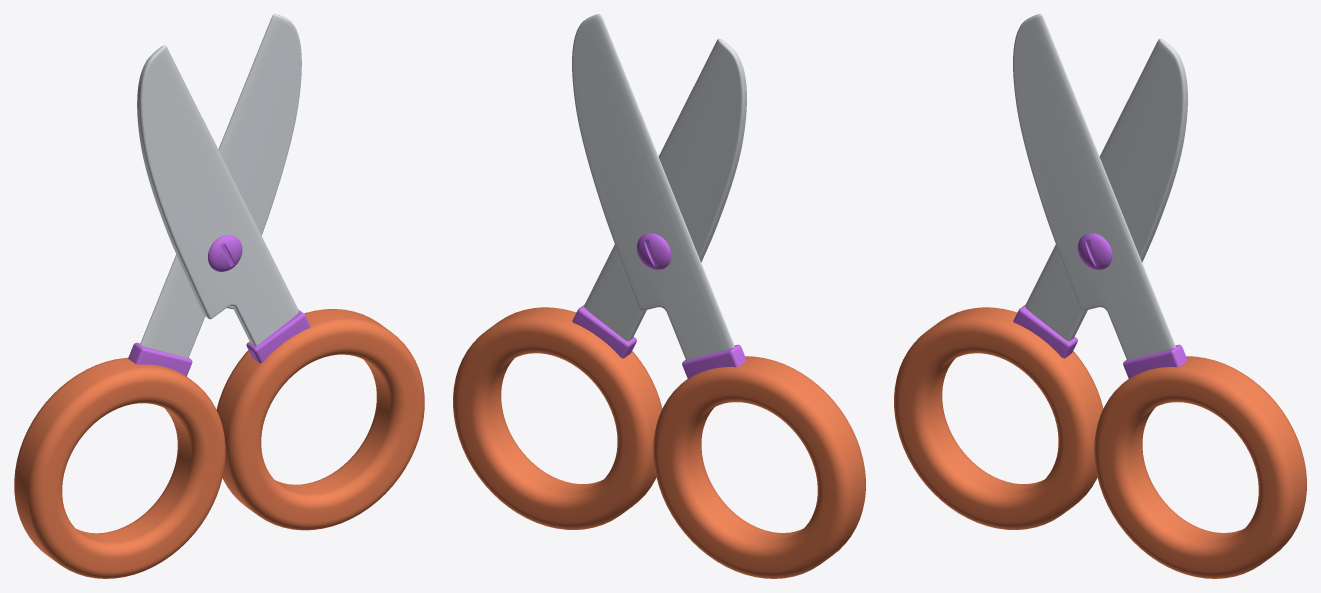
The model's file is 1. Scissors.glb.
3 views of the same model, side by side, from view 1: azimuth 30°, elevation 25°; view 2: azimuth 150°, elevation 25°; view 3: azimuth 330°, elevation 25° (orthographic).
Visible parts, largest first — view 1: Scissor 1.001, Scissor 1, Cube.001, Cube.003, Cube, Cube.002; view 2: Scissor 1.001, Scissor 1, Cube.003, Cube.001, Cube, Cube.002; view 3: Scissor 1, Scissor 1.001, Cube.001, Cube.003, Cube.002, Cube.
Boxes of the visible parts, <box> form: Scissor 1.001: <box>14,357,225,578</box>; Scissor 1: <box>208,235,424,530</box>; Cube.001: <box>137,45,298,346</box>; Cube.003: <box>140,14,301,358</box>; Cube: <box>246,309,310,363</box>; Cube.002: <box>128,342,192,376</box>; Scissor 1.001: <box>636,233,865,578</box>; Scissor 1: <box>453,307,662,529</box>; Cube.003: <box>572,14,734,360</box>; Cube.001: <box>584,38,746,341</box>; Cube: <box>572,304,636,358</box>; Cube.002: <box>682,344,746,378</box>; Scissor 1: <box>1077,233,1306,578</box>; Scissor 1.001: <box>894,307,1103,529</box>; Cube.001: <box>1013,14,1175,360</box>; Cube.003: <box>1025,38,1187,341</box>; Cube.002: <box>1013,304,1077,358</box>; Cube: <box>1123,344,1187,378</box>.
Size of the model in its own units: 0.5276 by 0.6589 by 0.0555.
